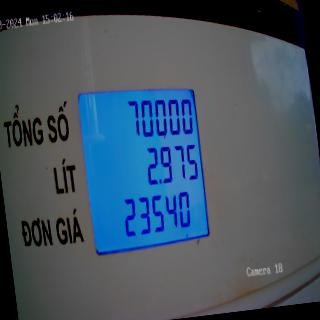screen: (72, 72, 214, 256)
